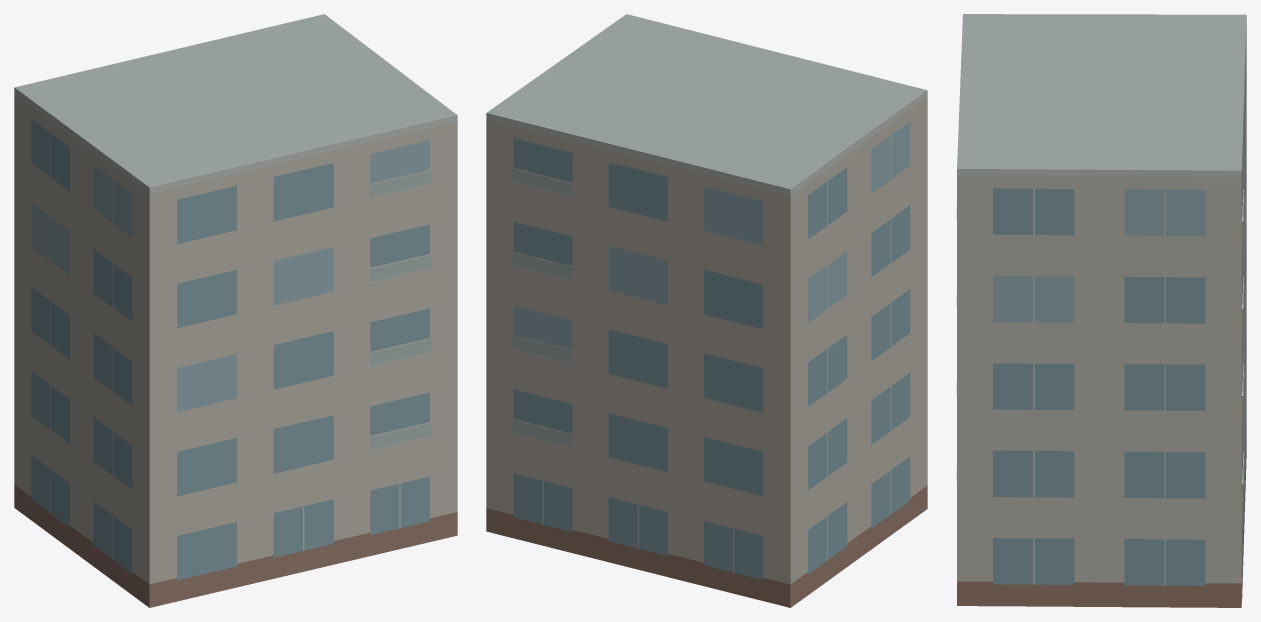
File: survey-upis-32876238.glb
3 renders of one model, left to right at view 1: azimuth 30°, elevation 25°; view 2: azimuth 150°, elevation 25°; view 3: azimuth 270°, elevation 25°, orthographic. The views are drawn at different scales.
Visible parts, largest first — view 1: survey-upis-32876238.tmp; view 2: survey-upis-32876238.tmp; view 3: survey-upis-32876238.tmp.
Part boxes in pixels (box(x1,y1,x2,y2)): survey-upis-32876238.tmp: box(14, 14, 457, 607); survey-upis-32876238.tmp: box(486, 14, 927, 607); survey-upis-32876238.tmp: box(956, 14, 1246, 607).
Bounding box in the file's own units: 11.74 × 15.25 × 9.18.
